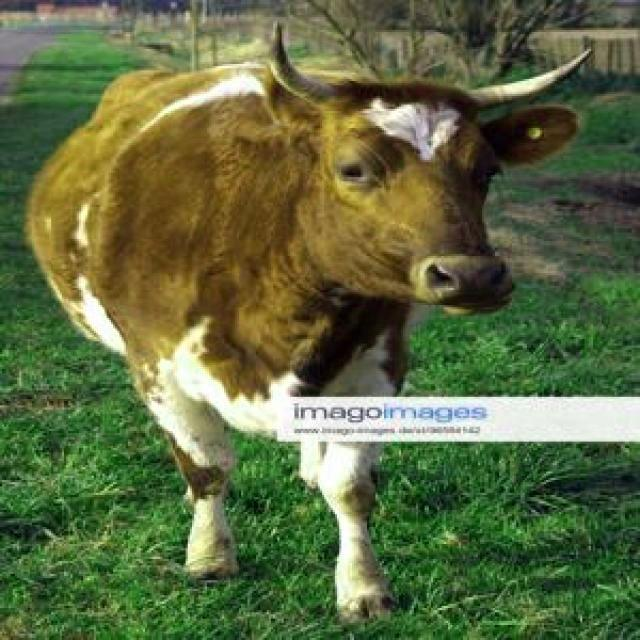cow: (28, 29, 578, 578), (300, 440, 392, 618)
